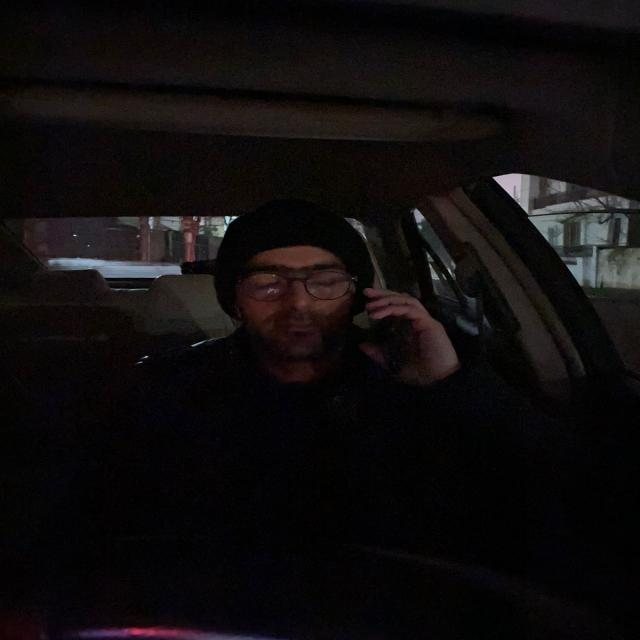mobile: (358, 290, 430, 370)
person: (218, 218, 366, 356)
